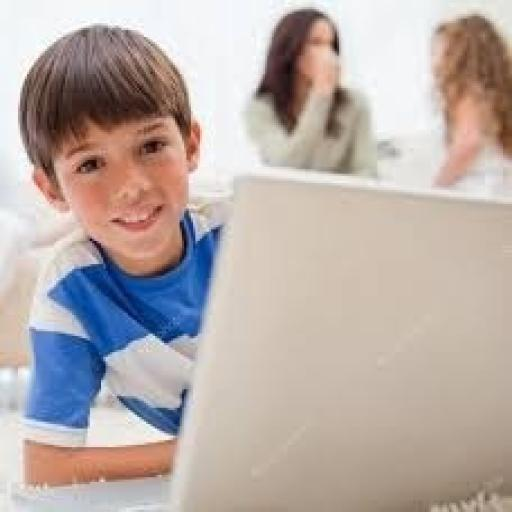using_laptop: (6, 162, 510, 510)
